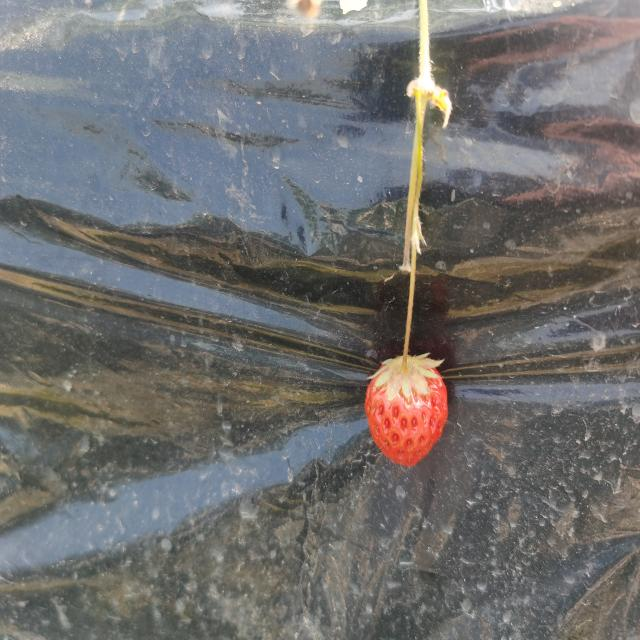stem: (402, 314, 412, 373)
strawberry: (365, 356, 448, 467)
